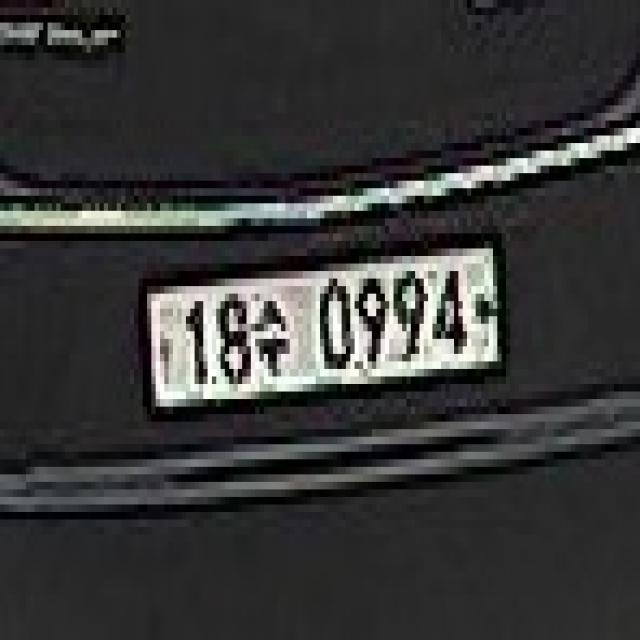0: (316, 271, 354, 377)
1: (182, 294, 212, 399)
4: (432, 263, 472, 369)
8: (216, 286, 255, 392)
9: (393, 263, 432, 369), (355, 271, 389, 377)
license_plate: (130, 233, 514, 430)
su: (251, 294, 294, 392)
